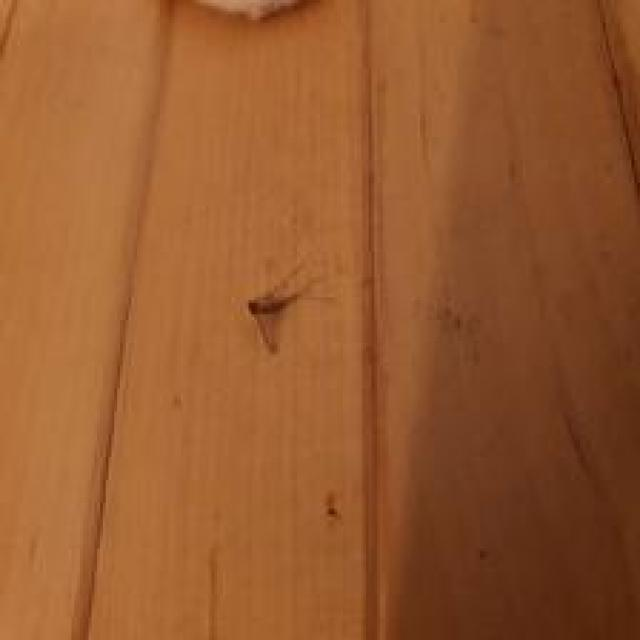Culex: (244, 253, 333, 353)
